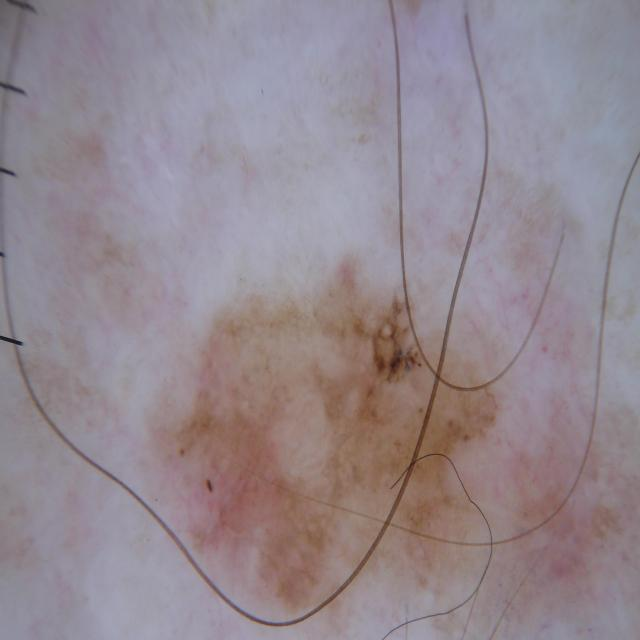Melanoma: (178, 262, 566, 640)
